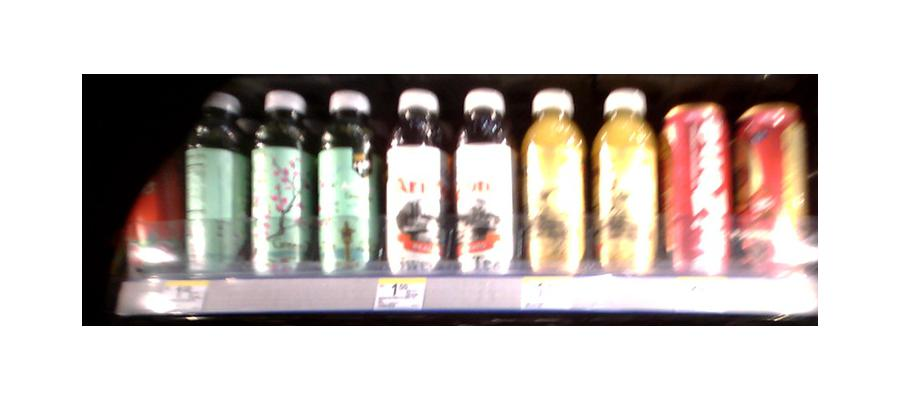bottle: (381, 91, 451, 277), (519, 88, 587, 276), (592, 87, 659, 274), (452, 89, 516, 279), (662, 105, 732, 275), (738, 108, 806, 279), (184, 89, 246, 273), (250, 91, 311, 276), (316, 92, 377, 275), (122, 154, 180, 281)
